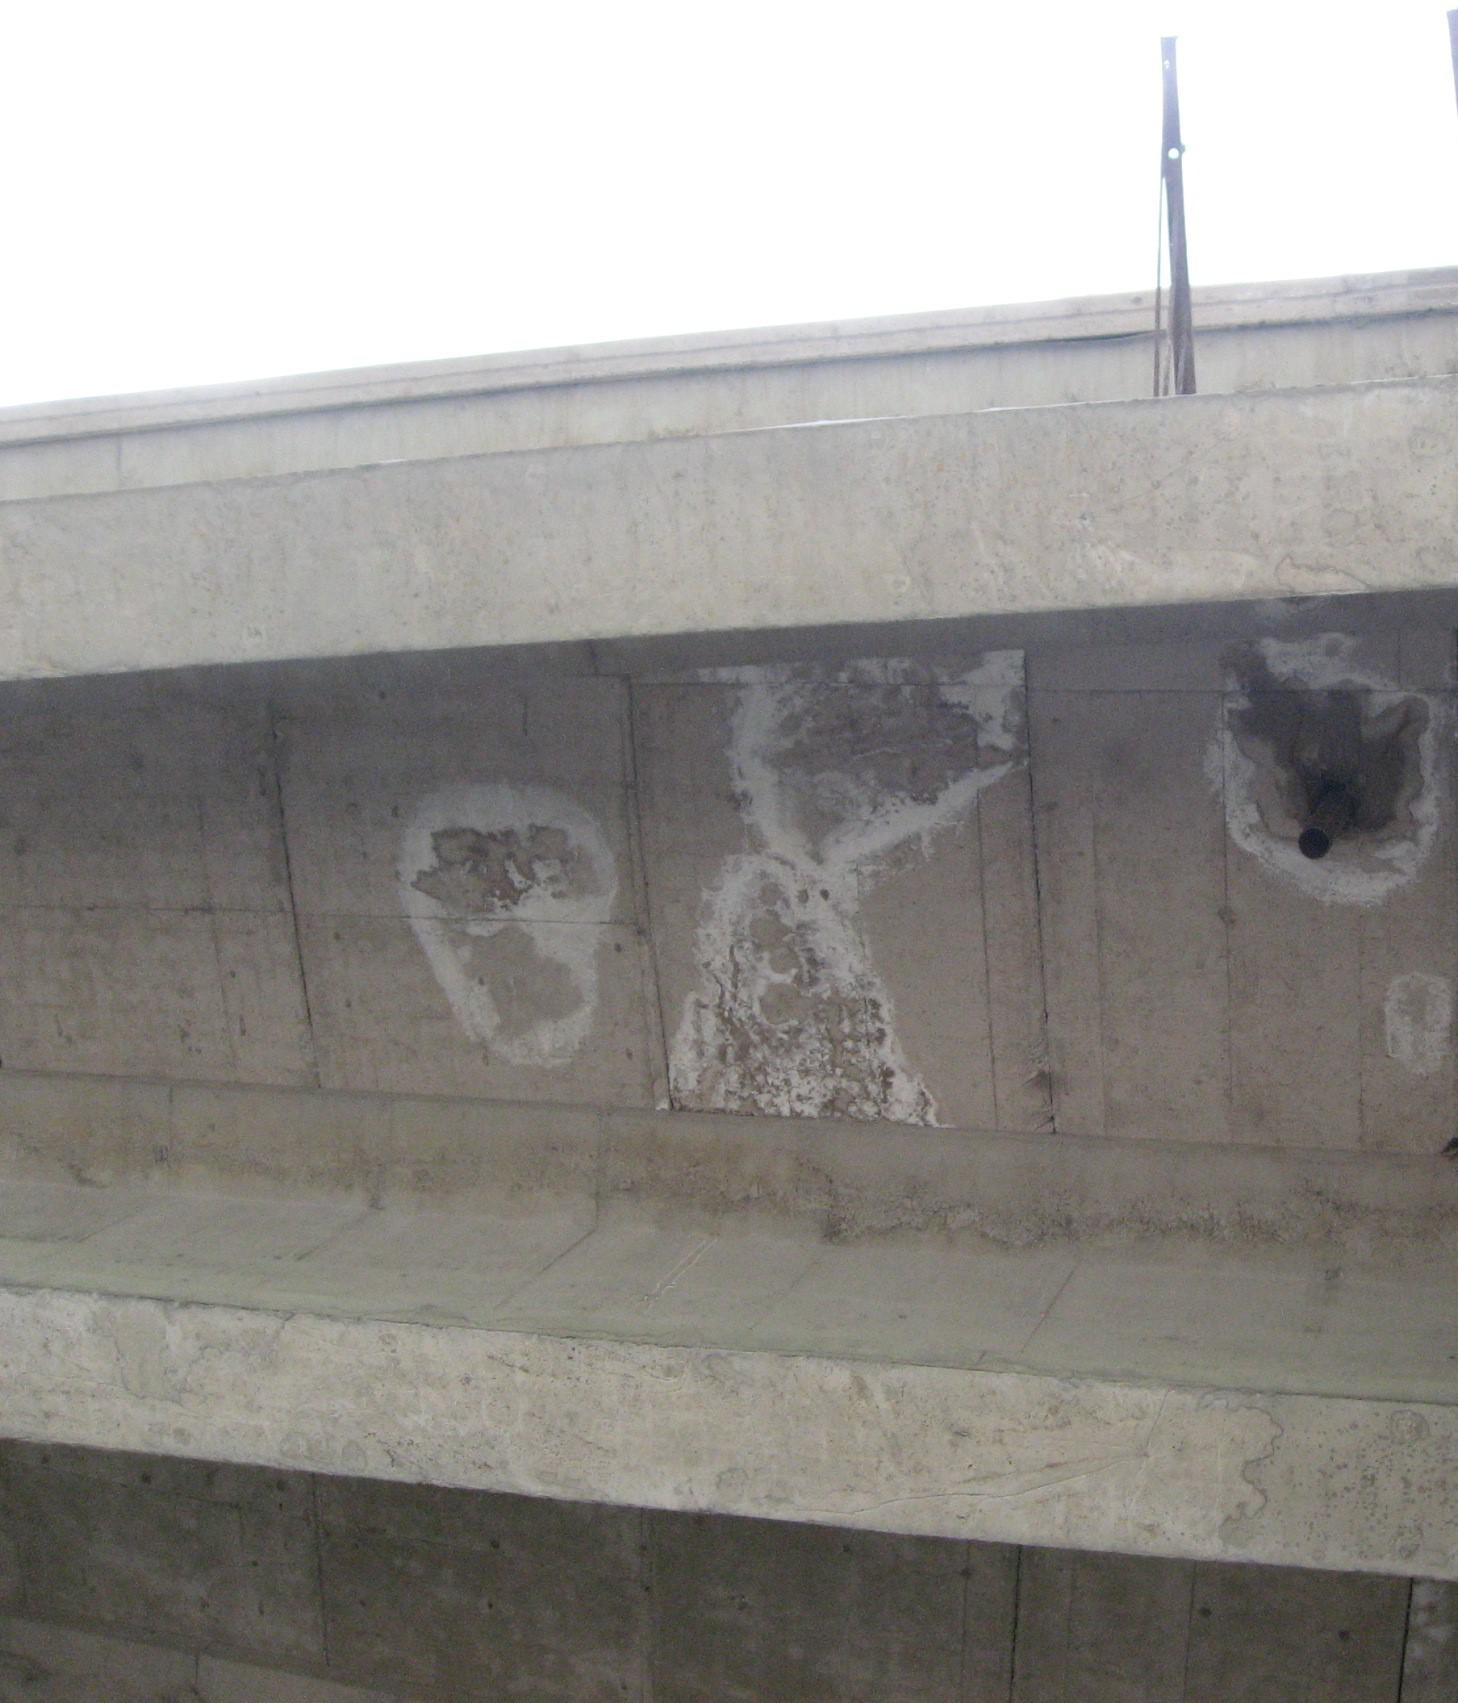Corrosion: (657, 849, 943, 1129), (726, 647, 1027, 875), (1201, 631, 1446, 909), (392, 780, 621, 1071), (1384, 969, 1451, 1074)
